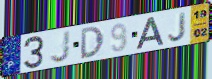3: (22, 34, 46, 70)
9: (109, 22, 130, 54)
A: (135, 16, 165, 51)
D: (80, 25, 105, 61)
J: (49, 29, 72, 64), (167, 10, 188, 43)
